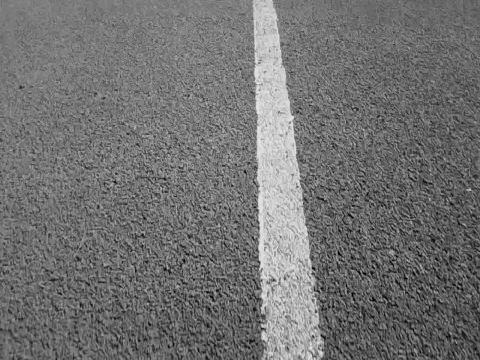Lines: (252, 0, 327, 360)
